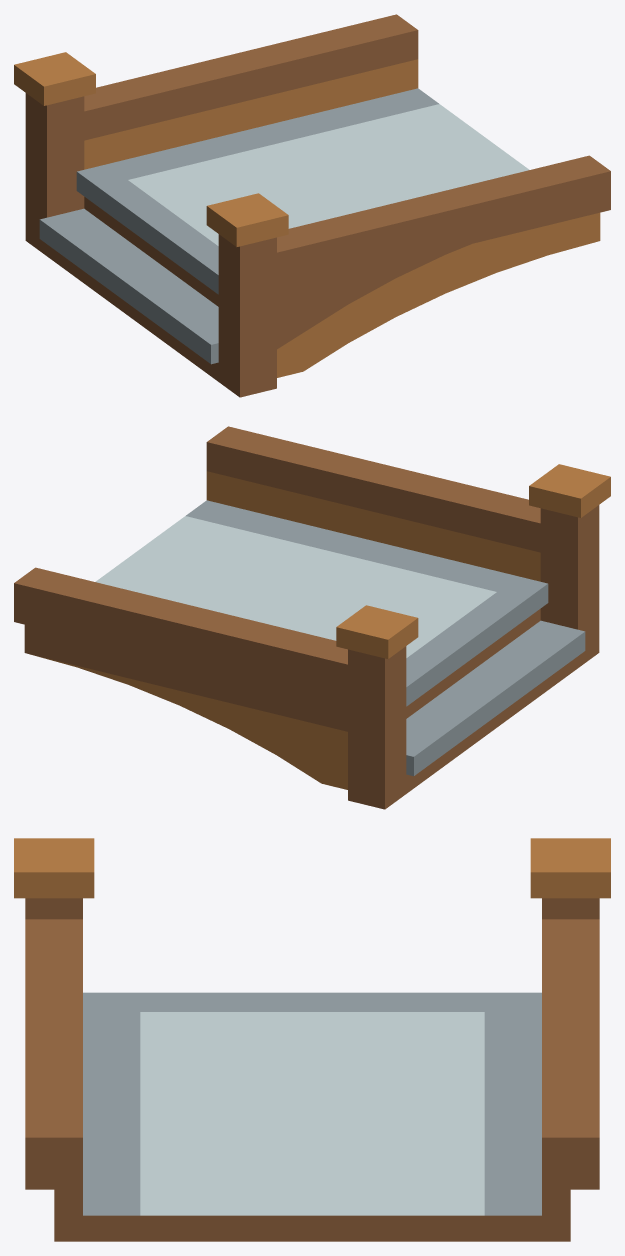
File: bridge_side_woodRound.glb
The picture shows the model from 3 angles, top to bottom: view 1: azimuth 30°, elevation 25°; view 2: azimuth 150°, elevation 25°; view 3: azimuth 270°, elevation 25°; orthographic projection. The views are drawn at different scales.
Parts seen in each view (by area): view 1: bridge_side_woodRound; view 2: bridge_side_woodRound; view 3: bridge_side_woodRound.
Boxes of the visible parts, x1,y1,x2,y2 form: bridge_side_woodRound: [14, 14, 610, 397]; bridge_side_woodRound: [14, 426, 610, 809]; bridge_side_woodRound: [14, 838, 610, 1241].
Size of the model in its own units: 1.02 by 0.45 by 1.04.
